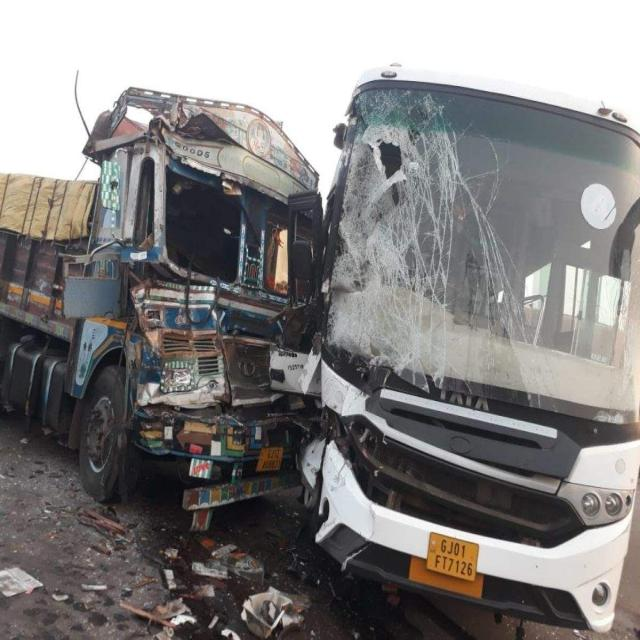accident: (269, 67, 640, 632), (0, 88, 320, 519)
